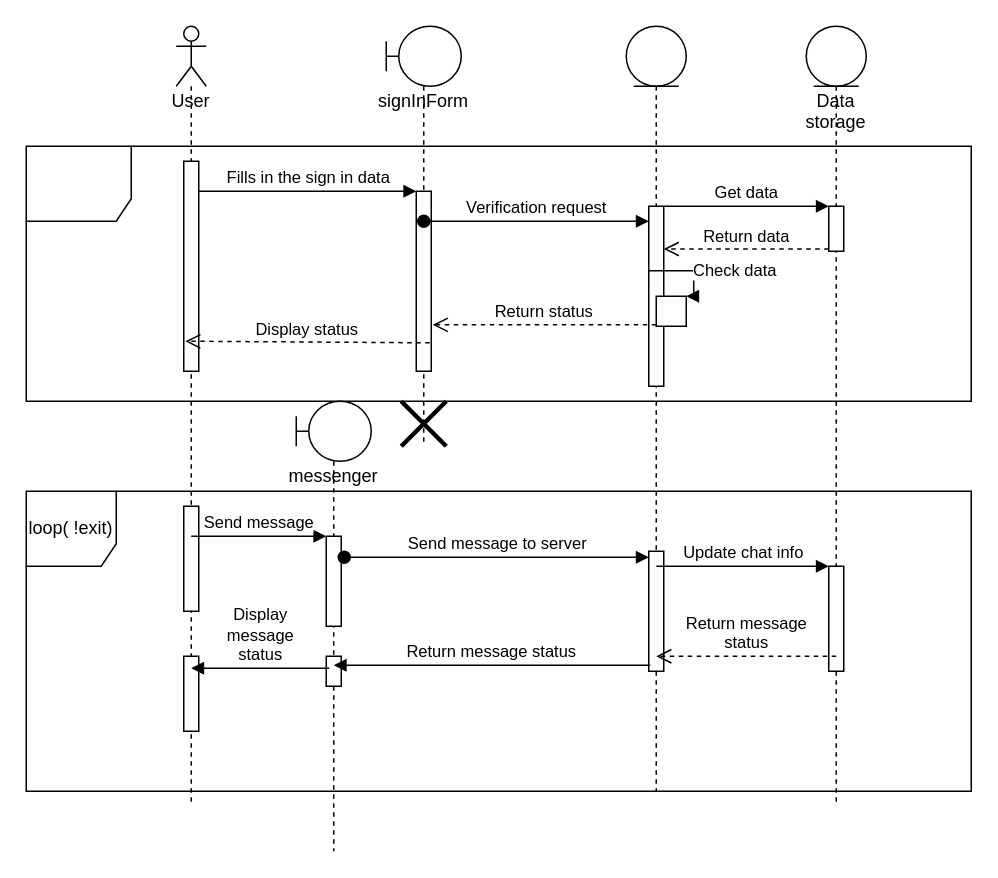
The diagram is 998 pixels wide and 878 high, and some of its shapes have lost their labels. The shapes that lost their labels are listed below. From the top down, each one's box as (x1, y1, x2, y2) in pixels, then its label:
(25, 145, 971, 401): loop( !exit or success)
(625, 25, 686, 791): Server
